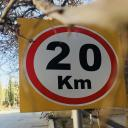speed_limit_20: (22, 23, 122, 108)
